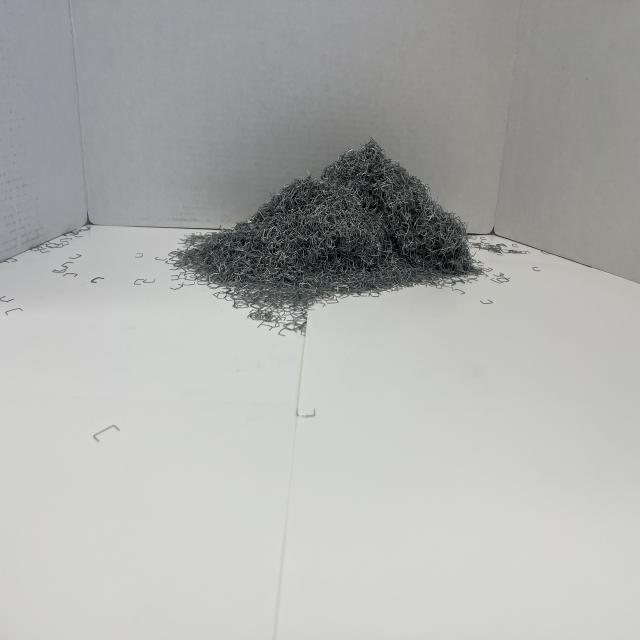staples: (163, 136, 480, 338)
